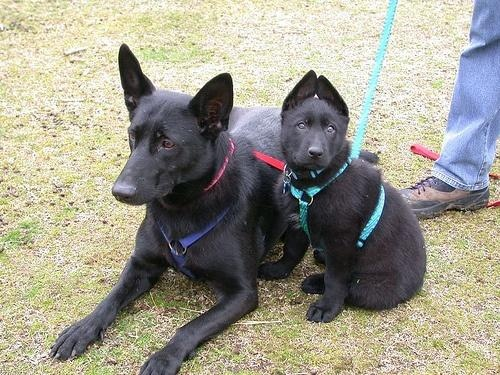dog: (43, 45, 327, 372), (277, 71, 433, 322)
